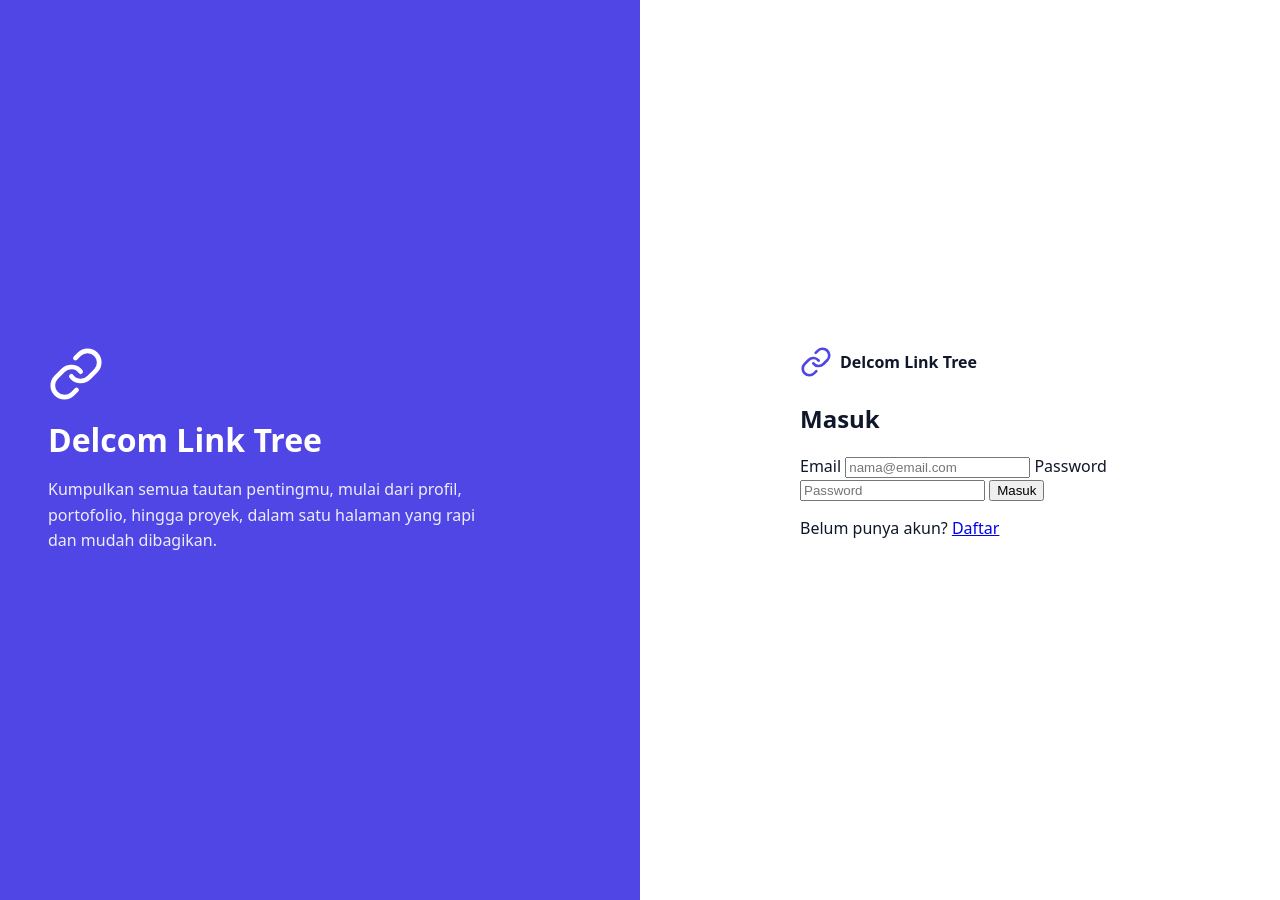
Test: LoginPage › menampilkan galat dari server dan menghapusnya saat kirim ulang
The image size is (1280, 900).
Type "a@b.co" into the field labelled "Email" at (938, 467), box [845, 456, 1030, 478]
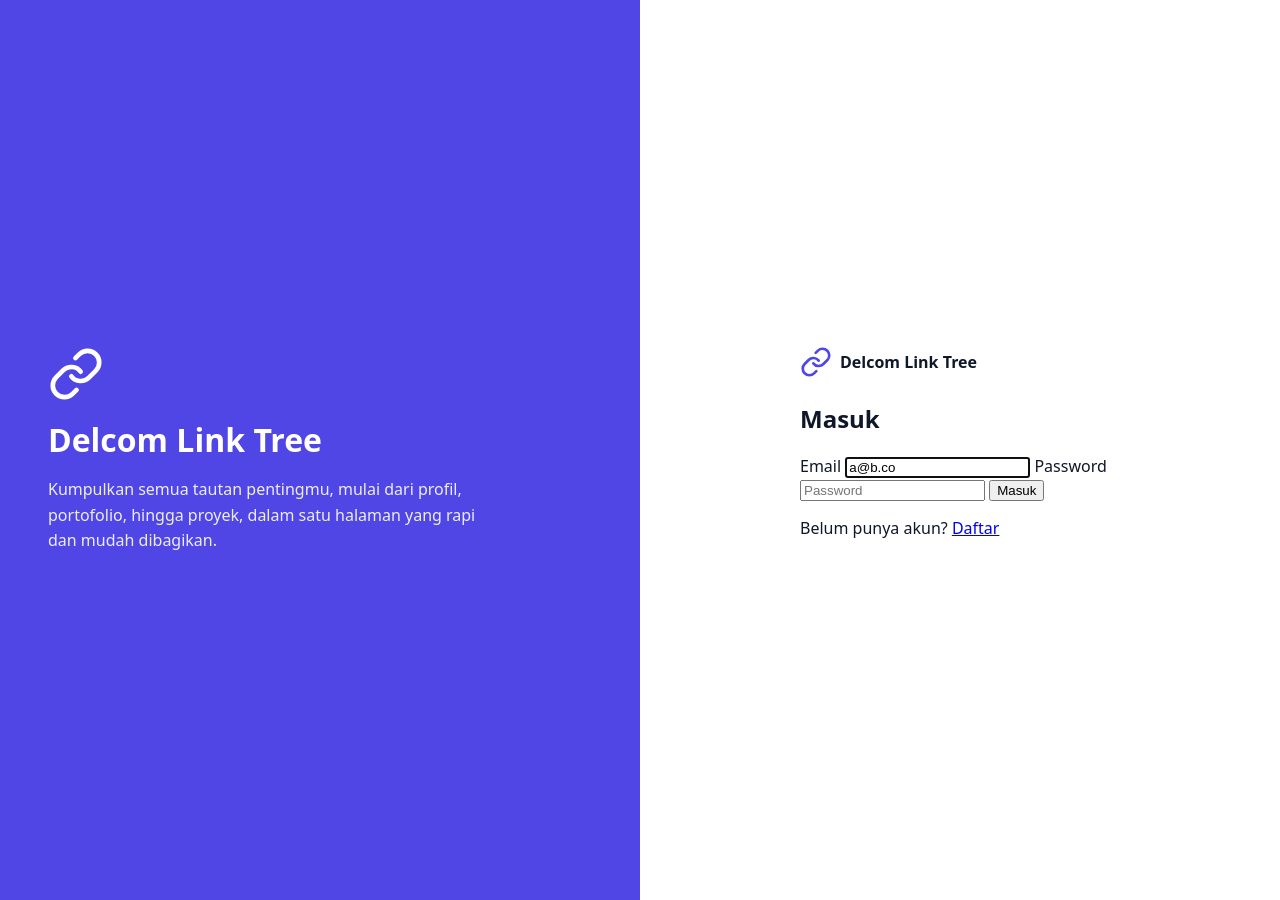
Type "rahasia" into the password field labelled "Password" at (892, 490), box [800, 480, 985, 500]
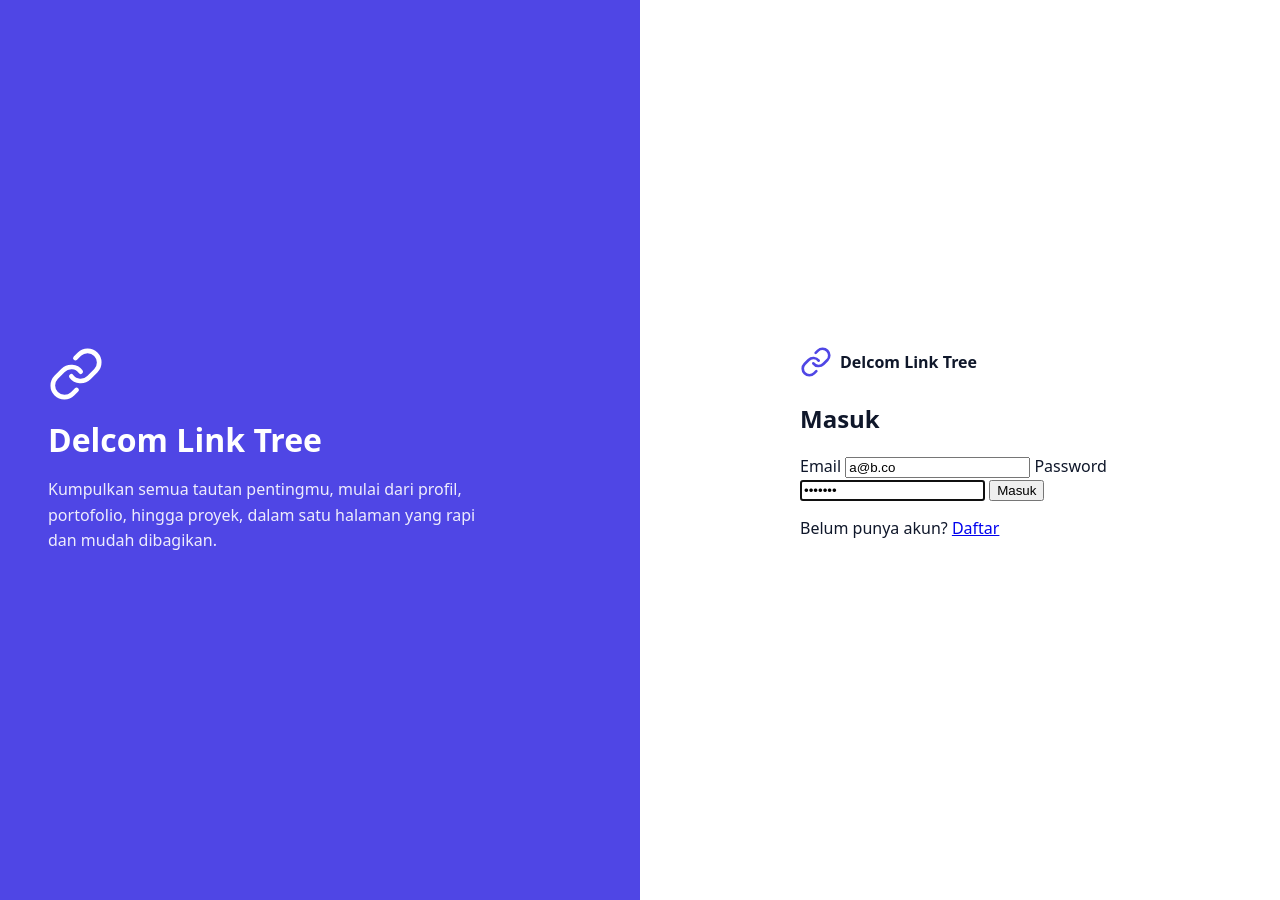
Click the button "Masuk" at (1017, 490), box [989, 480, 1044, 500]
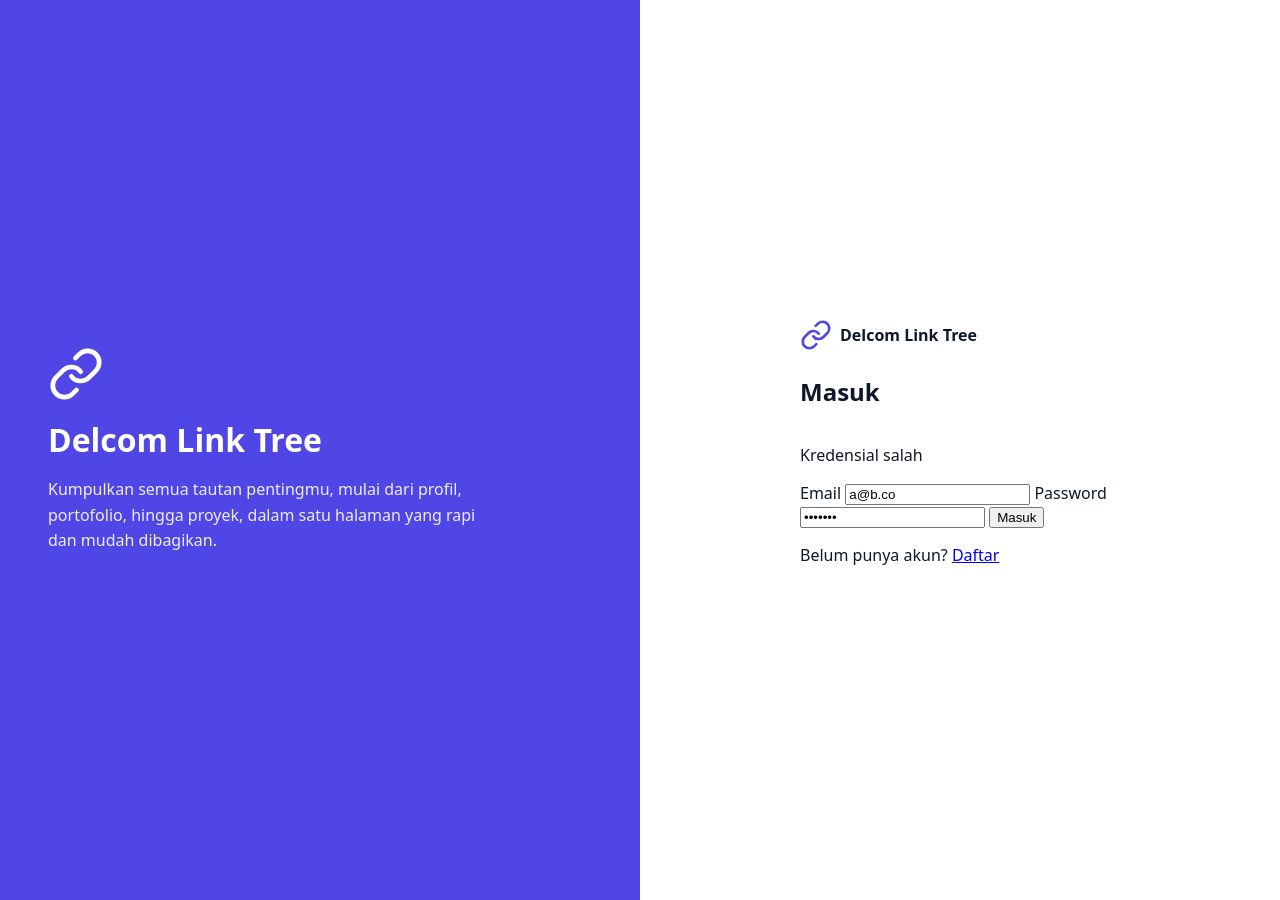
Result: the text "Kredensial salah" is shown at [800, 444, 923, 466]
Click the button "Masuk" at (1017, 517), box [989, 506, 1044, 528]
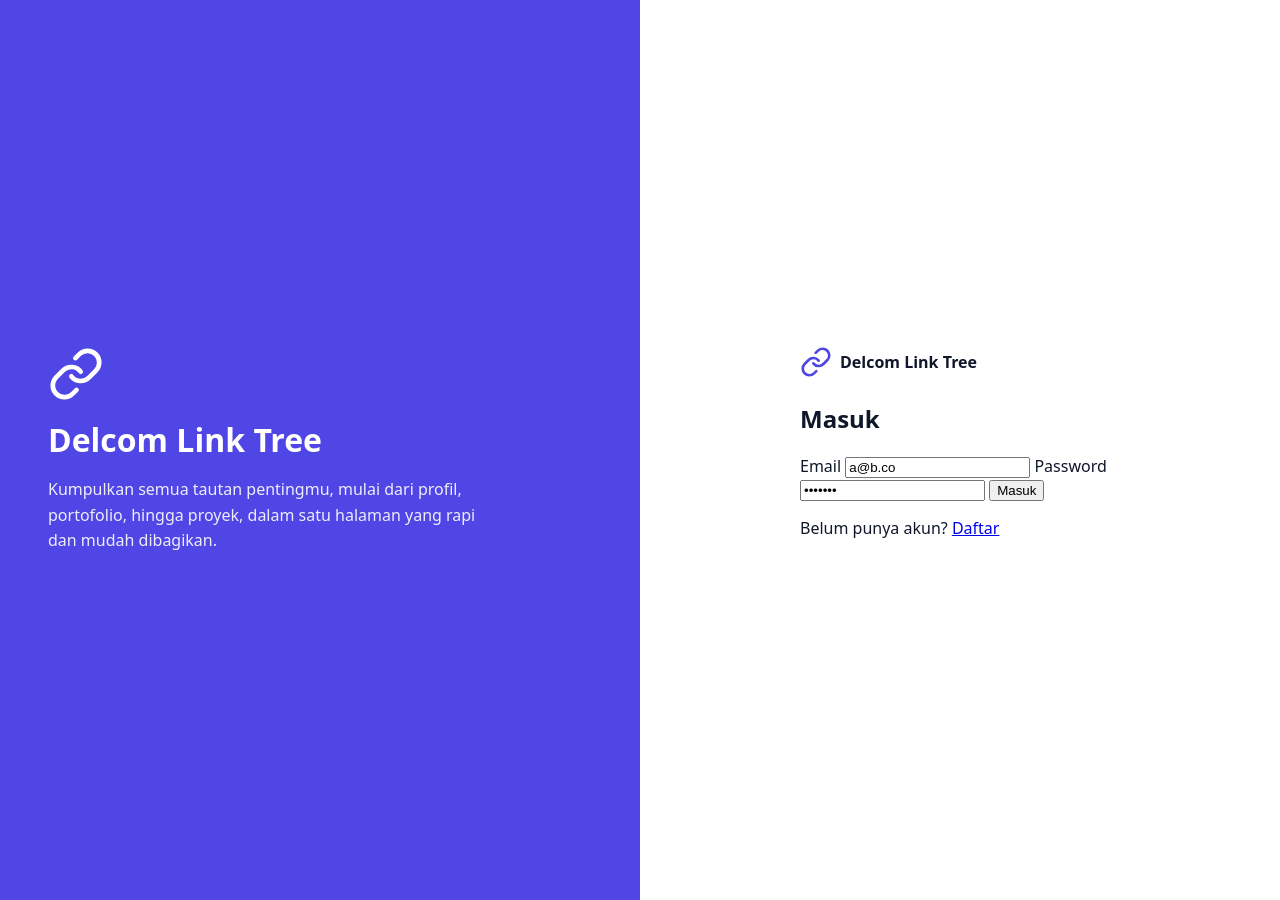
Result: the text "Kredensial salah" is gone
